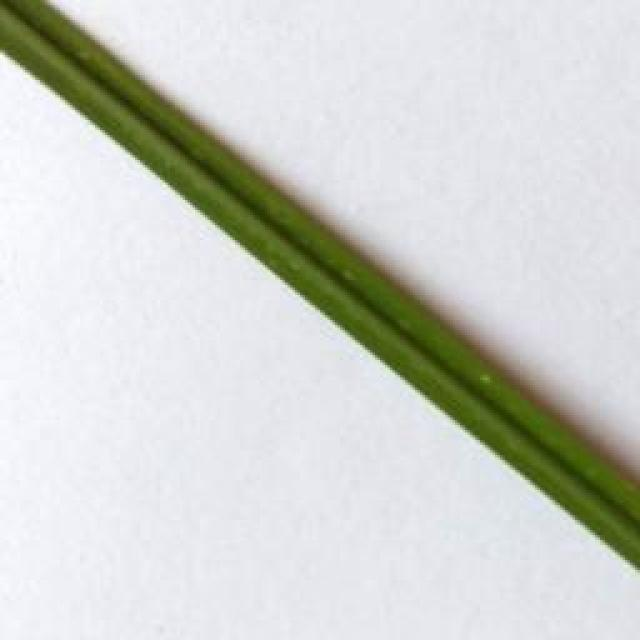Brown_Spot: (477, 366, 496, 393)
